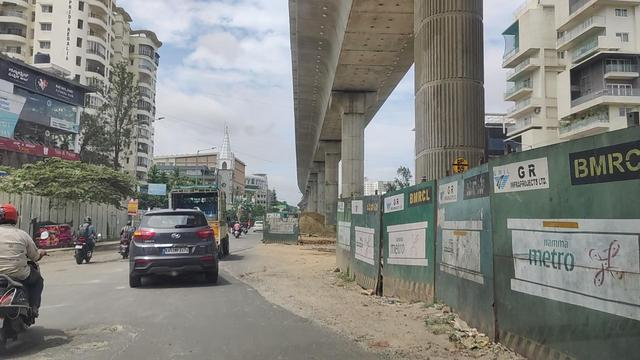LMV: (0, 206, 42, 352), (130, 213, 216, 284), (73, 213, 99, 265)
RoadDamages: (64, 321, 133, 360), (279, 300, 342, 342), (230, 264, 269, 302)
